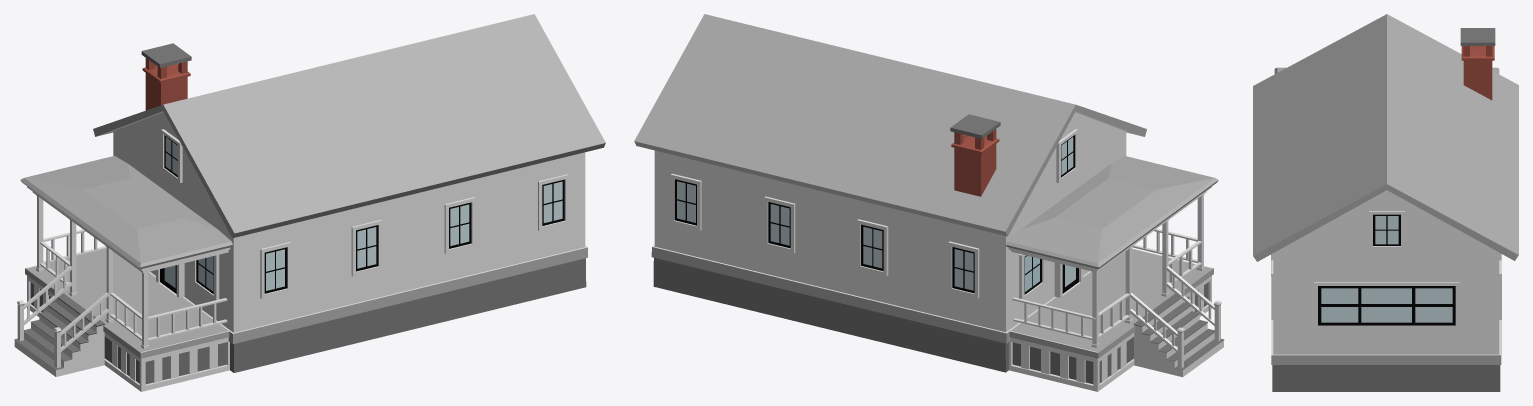
File: 平民大房B.fbx
3 views of the same model, side by side, from view 1: azimuth 30°, elevation 25°; view 2: azimuth 150°, elevation 25°; view 3: azimuth 270°, elevation 25° (orthographic). The views are drawn at different scales.
Parts seen in each view (by area): view 1: polySurface27, polySurface28, polySurface45, polySurface29, polySurface84, polySurface48, polySurface47, polySurface34, polySurface62, polySurface33, polySurface76, polySurface36 (+5 smaller); view 2: polySurface27, polySurface28, polySurface45, polySurface29, polySurface84, polySurface48, polySurface46, polySurface35, polySurface61, polySurface53, polySurface23, polySurface36 (+4 smaller); view 3: polySurface27, polySurface28, polySurface37, polySurface48, polySurface82, polySurface49.
Boxes of the visible parts, x1,y1,x2,y2 form: polySurface27: (93, 14, 605, 238); polySurface28: (113, 112, 587, 372); polySurface45: (20, 156, 232, 269); polySurface29: (25, 249, 229, 391); polySurface84: (14, 293, 104, 376); polySurface48: (142, 58, 190, 110); polySurface47: (444, 197, 475, 253); polySurface34: (351, 219, 382, 276); polySurface62: (260, 242, 291, 298); polySurface33: (538, 174, 568, 230); polySurface76: (192, 255, 219, 300); polySurface36: (161, 129, 182, 182); polySurface27: (634, 14, 1146, 236); polySurface28: (651, 112, 1126, 372); polySurface45: (996, 156, 1218, 269); polySurface29: (1009, 248, 1213, 391); polySurface84: (1133, 293, 1224, 377); polySurface48: (951, 129, 999, 196); polySurface46: (948, 241, 979, 298); polySurface35: (857, 219, 888, 276); polySurface61: (670, 173, 701, 230); polySurface53: (764, 196, 795, 253); polySurface23: (1019, 254, 1045, 299); polySurface36: (1056, 129, 1077, 182); polySurface27: (1253, 14, 1518, 261); polySurface28: (1271, 190, 1501, 391); polySurface37: (1314, 282, 1459, 329); polySurface48: (1461, 46, 1494, 100); polySurface82: (1369, 211, 1404, 249); polySurface49: (1460, 28, 1495, 45).
Size of the model in its own units: 18.86 by 8.26 by 9.26.
